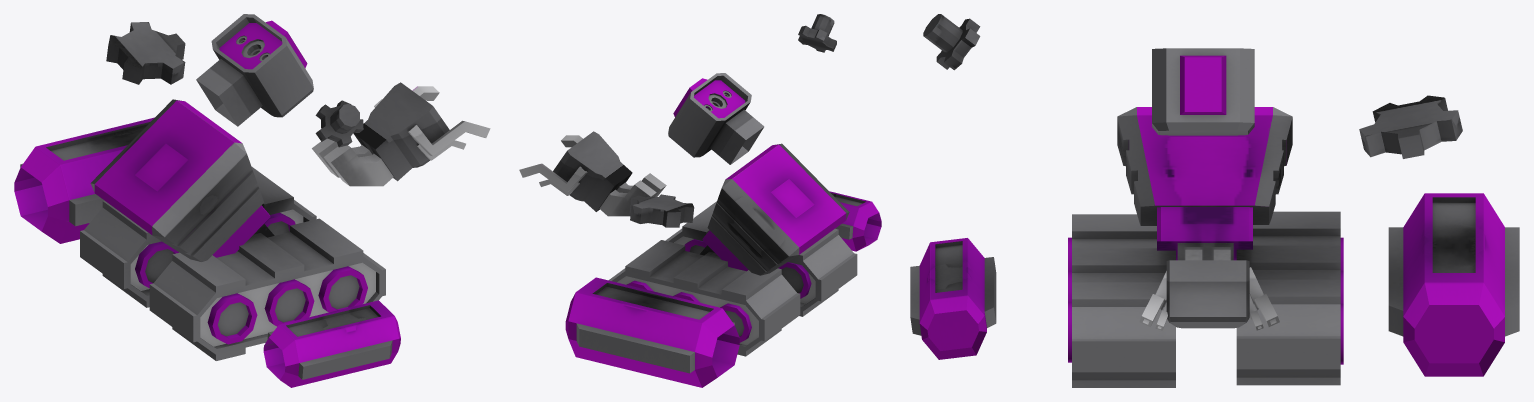
Rendered from Enemy2_Die19.obj.
The picture shows the model from 3 angles, left to right: view 1: azimuth 30°, elevation 25°; view 2: azimuth 150°, elevation 25°; view 3: azimuth 270°, elevation 25°; orthographic projection. The views are drawn at different scales.
Parts seen in each view (by area): view 1: Object006, Object013, Object010, Object012, Object011, Object014, Object009, Object008; view 2: Object006, Object011, Object013, Object012, Object010, Object014, Object009, Object008; view 3: Object006, Object011, Object013, Object012, Object014, Object010, Object009, Object008.
Part boxes in pixels (x1,y1,x2,y2): Object006: (80, 166, 385, 360); Object013: (90, 99, 274, 261); Object010: (312, 82, 490, 186); Object012: (196, 14, 313, 126); Object011: (14, 117, 154, 243); Object014: (263, 300, 400, 387); Object009: (106, 22, 185, 84); Object008: (315, 100, 363, 147); Object006: (608, 201, 857, 356); Object011: (565, 277, 739, 387); Object013: (700, 143, 849, 275); Object012: (668, 73, 764, 164); Object010: (519, 131, 666, 216); Object014: (829, 191, 881, 251); Object009: (629, 194, 694, 227); Object008: (798, 14, 836, 52); Object006: (1068, 211, 1343, 387); Object011: (1388, 193, 1519, 376); Object013: (1117, 107, 1292, 260); Object012: (1152, 48, 1254, 135); Object014: (910, 238, 996, 359); Object010: (1139, 249, 1279, 330); Object009: (1359, 95, 1462, 158); Object008: (923, 14, 980, 70).
Size of the model in its own units: 155 by 120 by 201.
